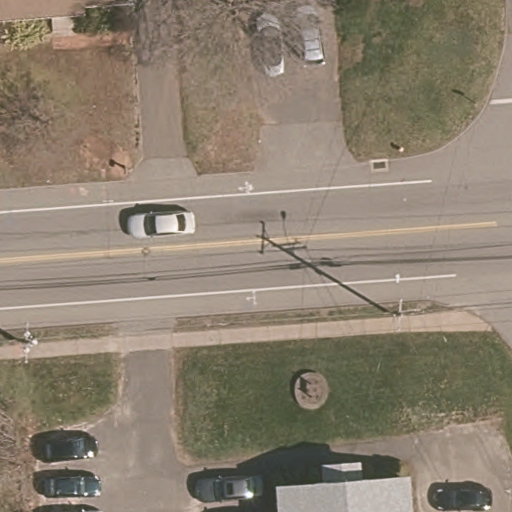DT: (387, 290, 437, 345), (9, 313, 53, 367)
